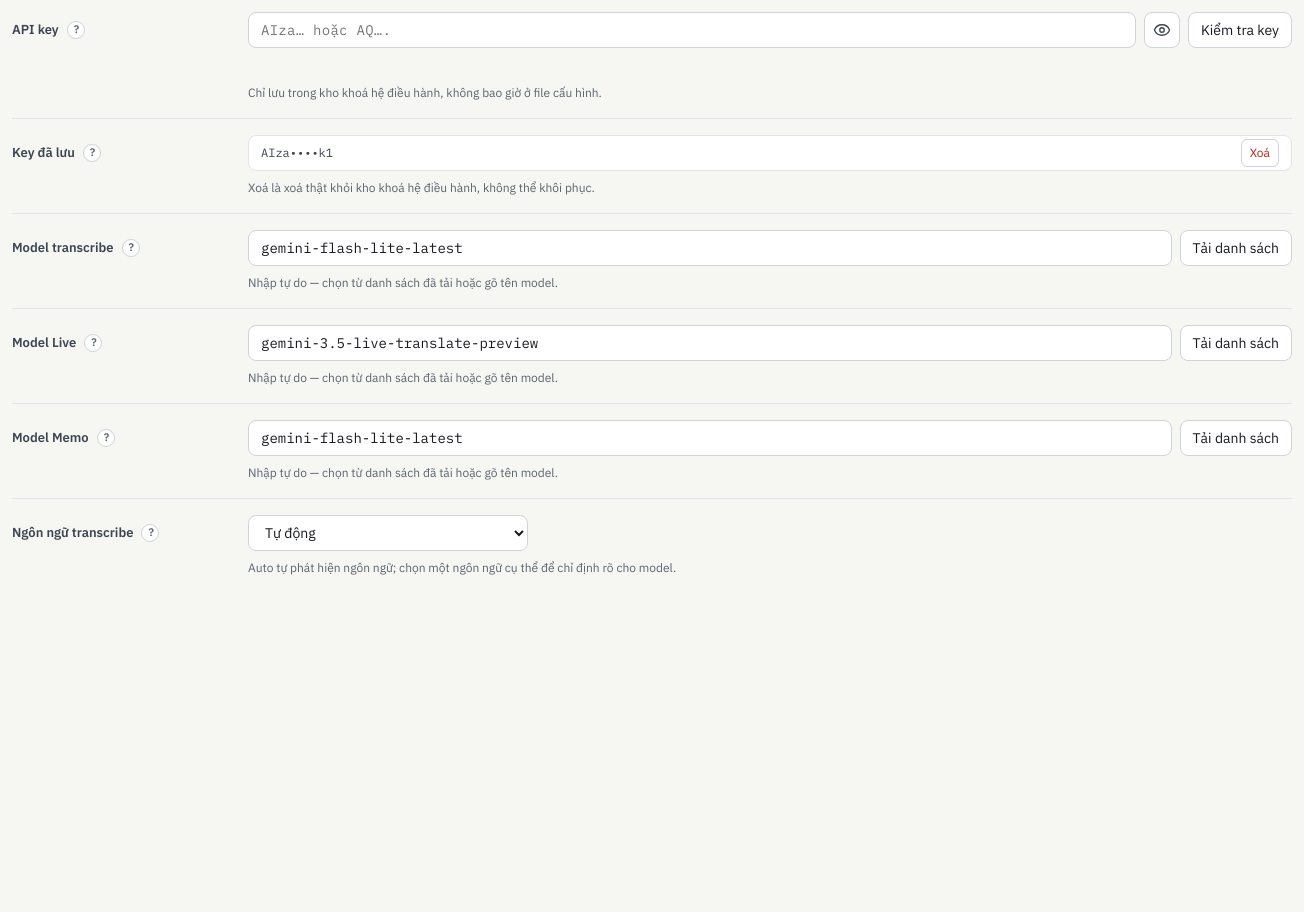
SettingsGemini key list › keeps the list unchanged and shows a banner when deleting fails
The width and height of the screenshot is (1304, 912).
Check: the text "AIza••••k1" is shown, box [261, 144, 333, 162]
Click the button with aria-label "Xoá key AIza••••k1".
click(1260, 153)  # box [1241, 139, 1279, 167]
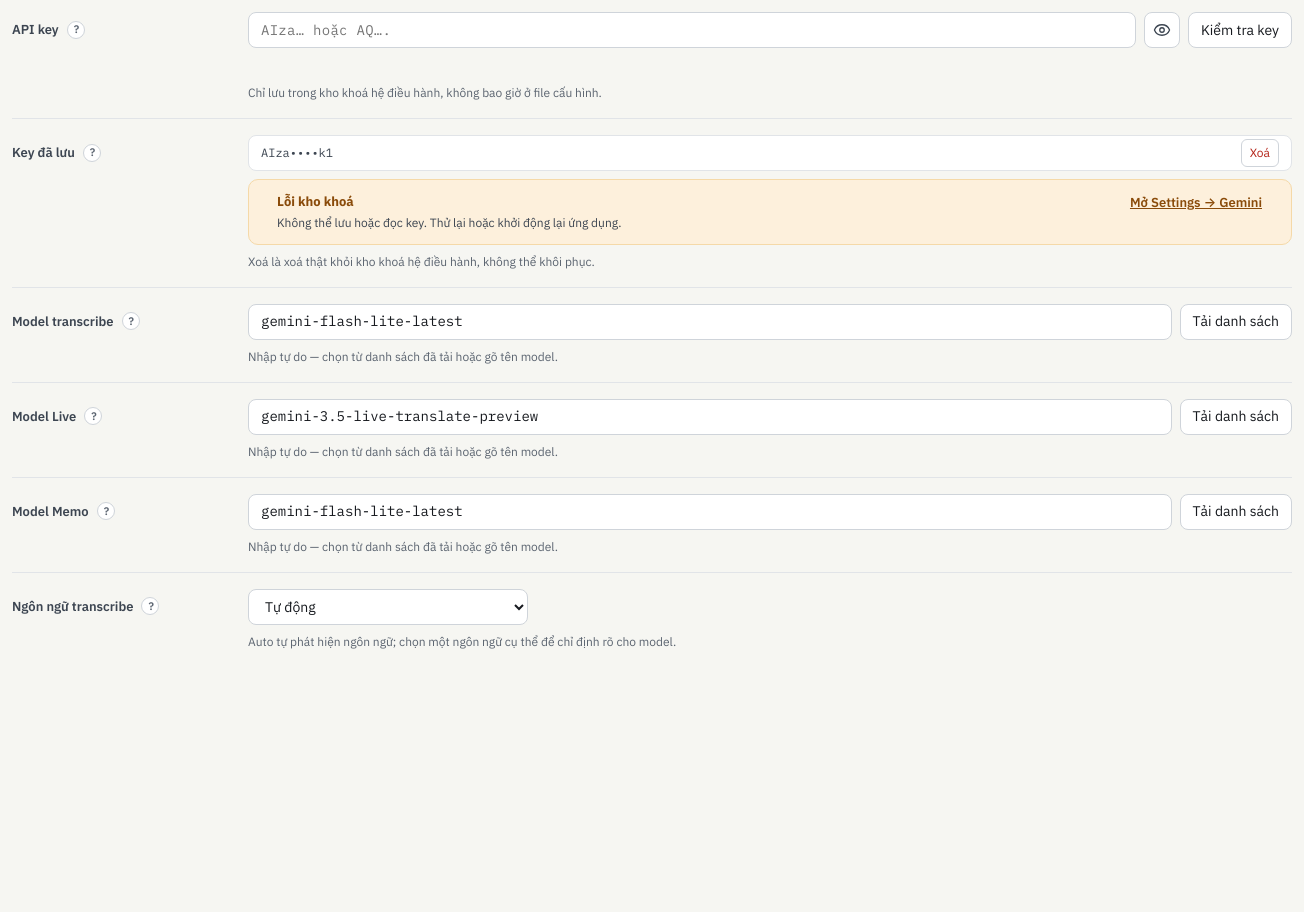
Check: the text "AIza••••k1" is shown, box [261, 144, 333, 162]
Check: the text "Lỗi kho khoá" is shown, box [277, 193, 354, 210]
